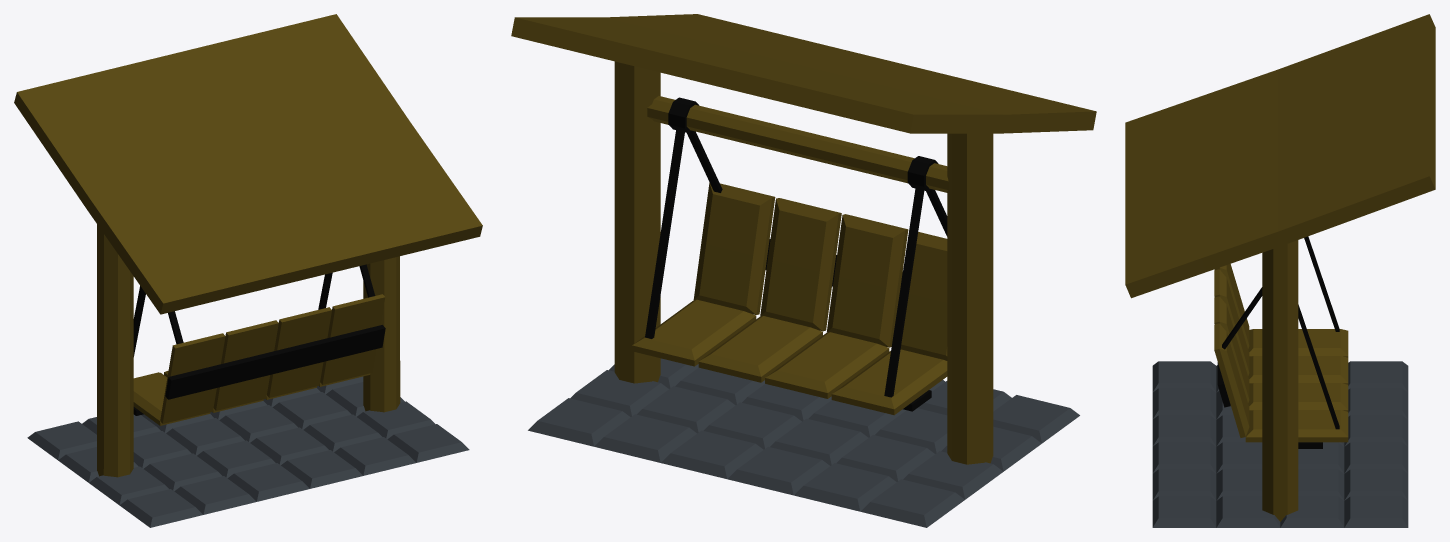
The model's file is Swing_Wood.fbx.
3 renders of one model, left to right at view 1: azimuth 30°, elevation 25°; view 2: azimuth 150°, elevation 25°; view 3: azimuth 270°, elevation 25°, orthographic. The views are drawn at different scales.
Parts seen in each view (by area): view 1: Swing_Wood_Full, Swing_chair; view 2: Swing_Wood_Full, Swing_chair; view 3: Swing_Wood_Full, Swing_chair.
Part boxes in pixels (x1=…): Swing_Wood_Full: x1=14, y1=14, x2=482, y2=527; Swing_chair: x1=133, y1=264, x2=385, y2=425; Swing_Wood_Full: x1=511, y1=14, x2=1096, y2=527; Swing_chair: x1=632, y1=97, x2=947, y2=415; Swing_Wood_Full: x1=1125, y1=14, x2=1435, y2=527; Swing_chair: x1=1214, y1=236, x2=1348, y2=448.
Size of the model in its own units: 6 by 6.07 by 4.85.
